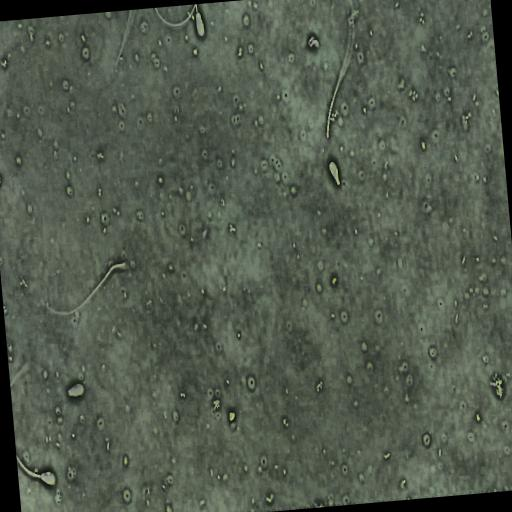dirt-particles: (489, 372, 505, 401), (226, 407, 239, 425), (307, 34, 320, 51)
loose-head: (328, 158, 342, 189), (66, 380, 86, 400)
loose-tail: (38, 257, 127, 320)
